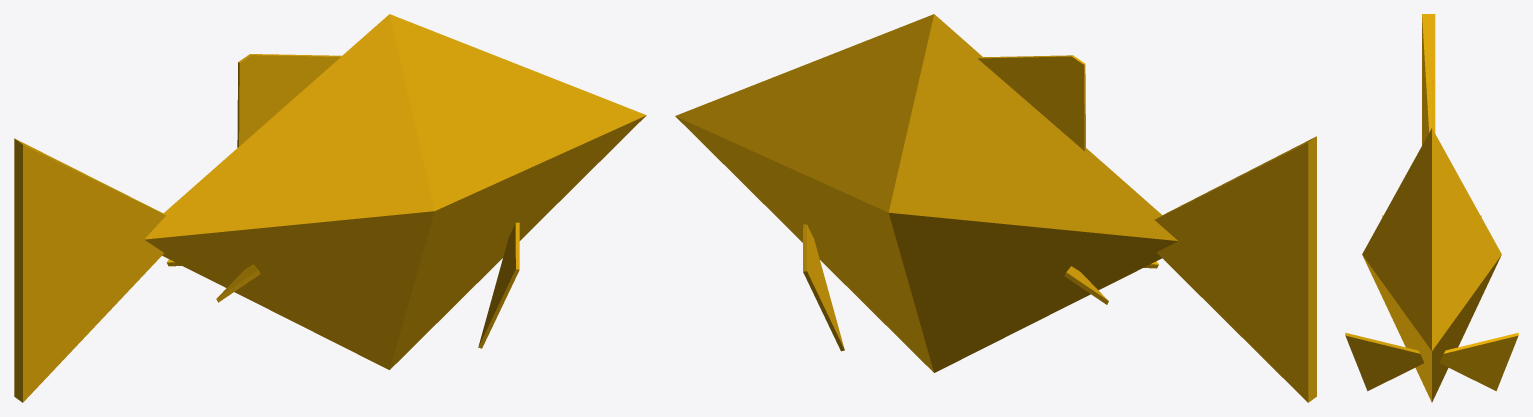
File: boid_fish.glb
3 renders of one model, left to right at view 1: azimuth 30°, elevation 25°; view 2: azimuth 150°, elevation 25°; view 3: azimuth 270°, elevation 25°, orthographic. The views are drawn at different scales.
Parts seen in each view (by area): view 1: Cone; view 2: Cone; view 3: Cone.
Boxes of the visible parts, box(x1,y1,x2,y2) form: Cone: box(14, 14, 646, 402); Cone: box(675, 14, 1316, 402); Cone: box(1345, 14, 1518, 402).
Size of the model in its own units: 2.45 by 1.32 by 0.7553.
